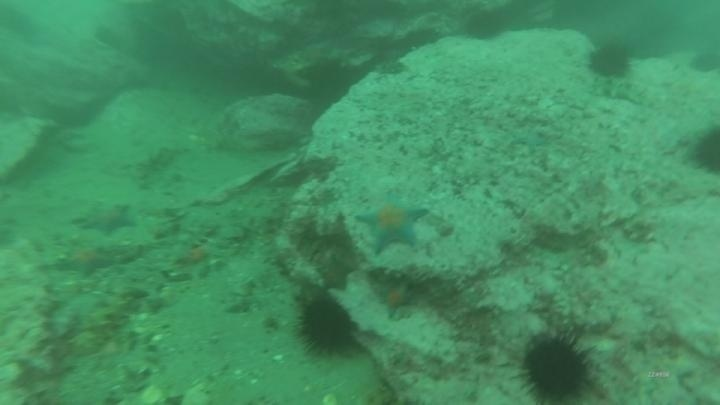echinus: (515, 330, 596, 403), (295, 293, 358, 358), (586, 39, 635, 81), (689, 123, 720, 178), (462, 9, 507, 43), (688, 48, 720, 77)
holothurian: (67, 289, 136, 356)
starfish: (354, 191, 429, 256), (77, 201, 138, 238), (56, 244, 115, 279), (375, 279, 417, 317), (316, 253, 355, 293), (173, 241, 220, 270), (507, 126, 551, 150)
